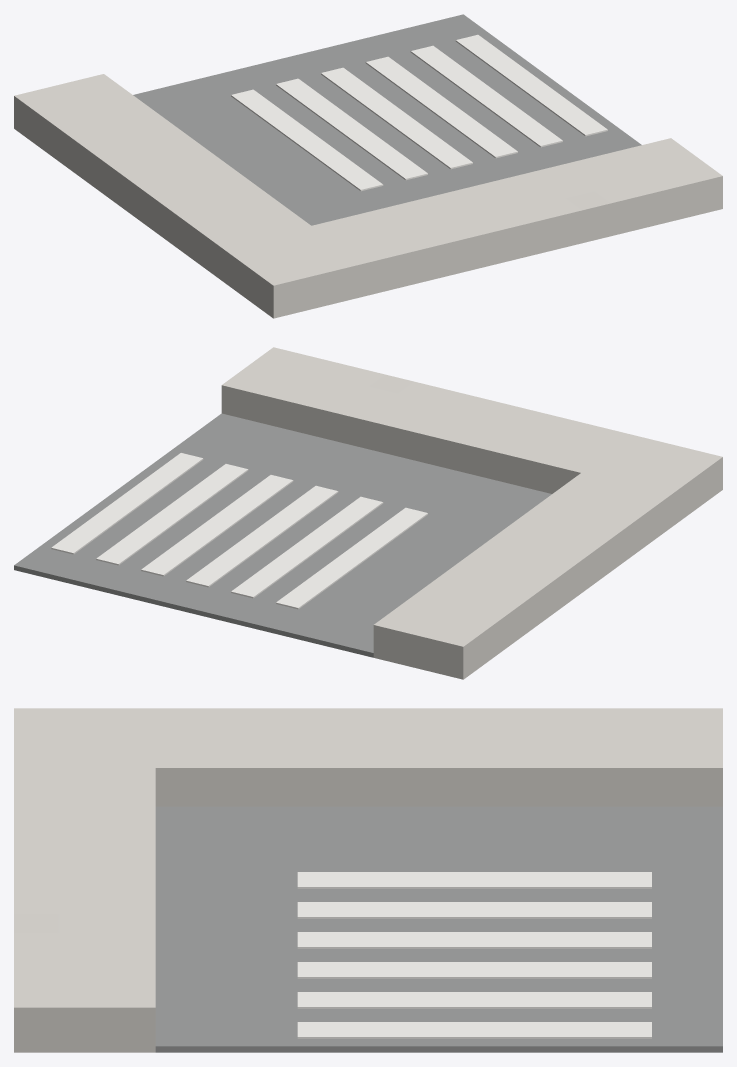
Rendered from road-corner.glb.
The picture shows the model from 3 angles, top to bottom: view 1: azimuth 30°, elevation 25°; view 2: azimuth 150°, elevation 25°; view 3: azimuth 270°, elevation 25°; orthographic projection. The views are drawn at different scales.
Parts seen in each view (by area): view 1: sidewalk_left, road, stripe_0; view 2: sidewalk_left, road, stripe_0; view 3: sidewalk_left, road, stripe_0.
Part boxes in pixels (bbox=[...]): sidewalk_left: bbox=[14, 74, 722, 318]; road: bbox=[133, 14, 641, 225]; stripe_0: bbox=[231, 34, 607, 191]; sidewalk_left: bbox=[221, 347, 722, 679]; road: bbox=[14, 413, 551, 657]; stripe_0: bbox=[51, 453, 427, 609]; sidewalk_left: bbox=[14, 708, 722, 1052]; road: bbox=[155, 806, 722, 1052]; stripe_0: bbox=[297, 872, 651, 1038].
Size of the model in its own units: 2 by 0.14 by 2.
3 materials, 2 textured.
